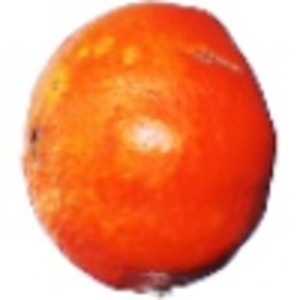tangerina: (19, 1, 280, 300)
